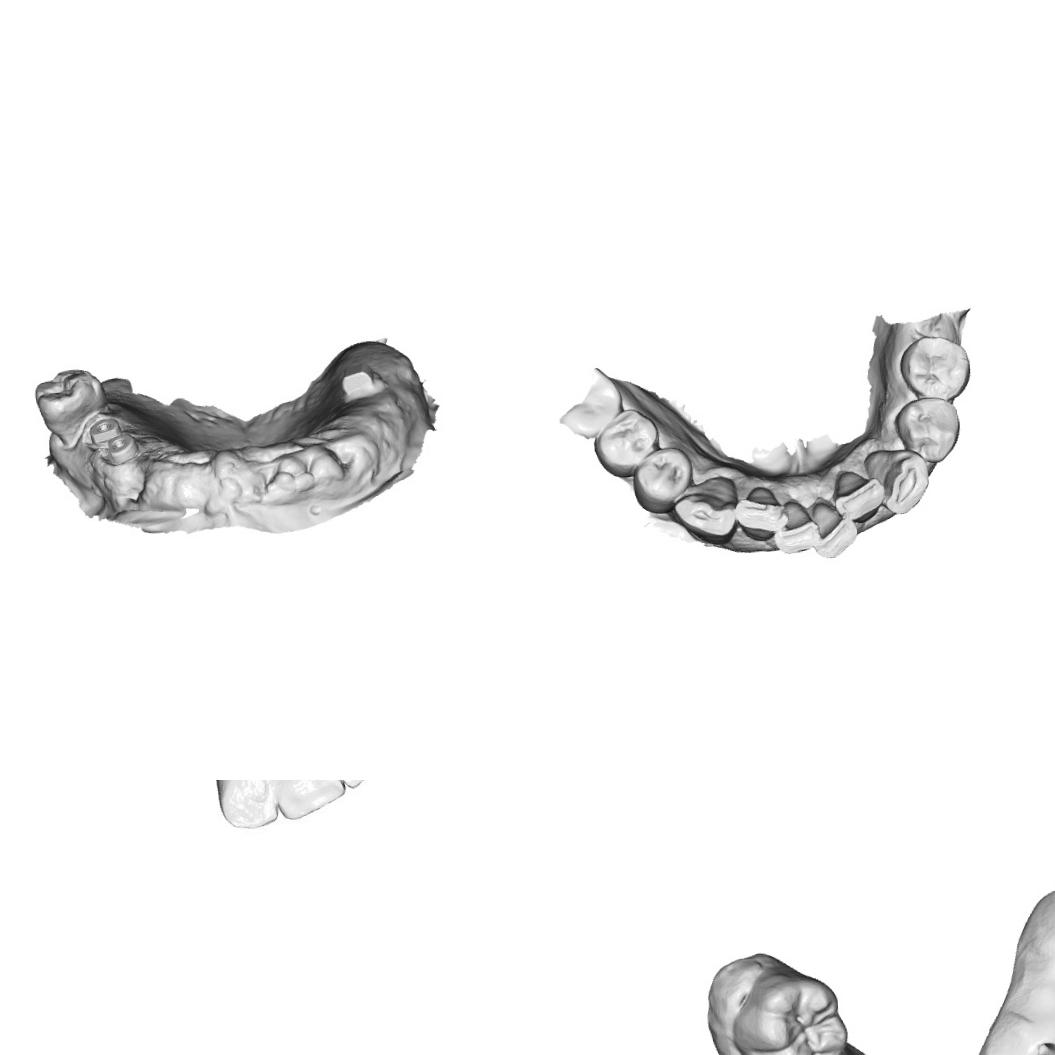canine: (672, 478, 738, 544), (868, 446, 926, 516), (209, 780, 282, 834)
implant: (100, 431, 141, 467), (86, 414, 123, 444)
incisor: (808, 488, 859, 560), (273, 780, 350, 823), (735, 484, 791, 540), (829, 467, 886, 522), (771, 496, 820, 557)
molar: (728, 968, 850, 1055), (30, 364, 108, 436)
premolar: (893, 331, 972, 405), (590, 405, 660, 477), (894, 394, 962, 468), (629, 446, 691, 512)
